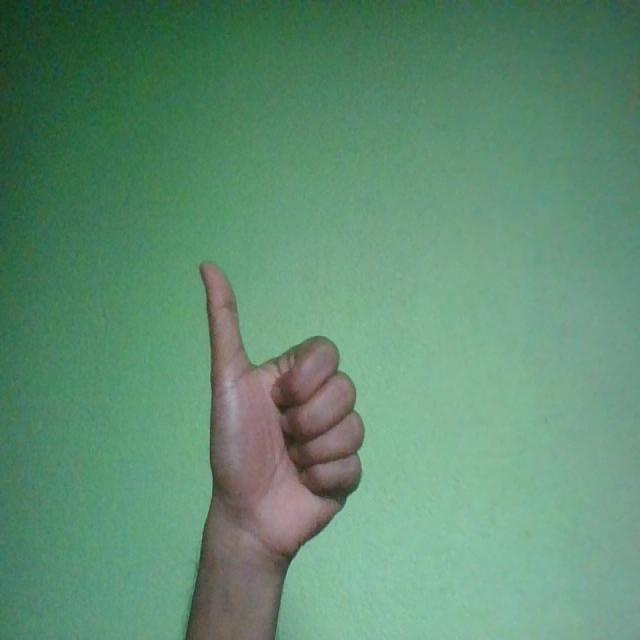Good Job: (197, 261, 367, 564)
